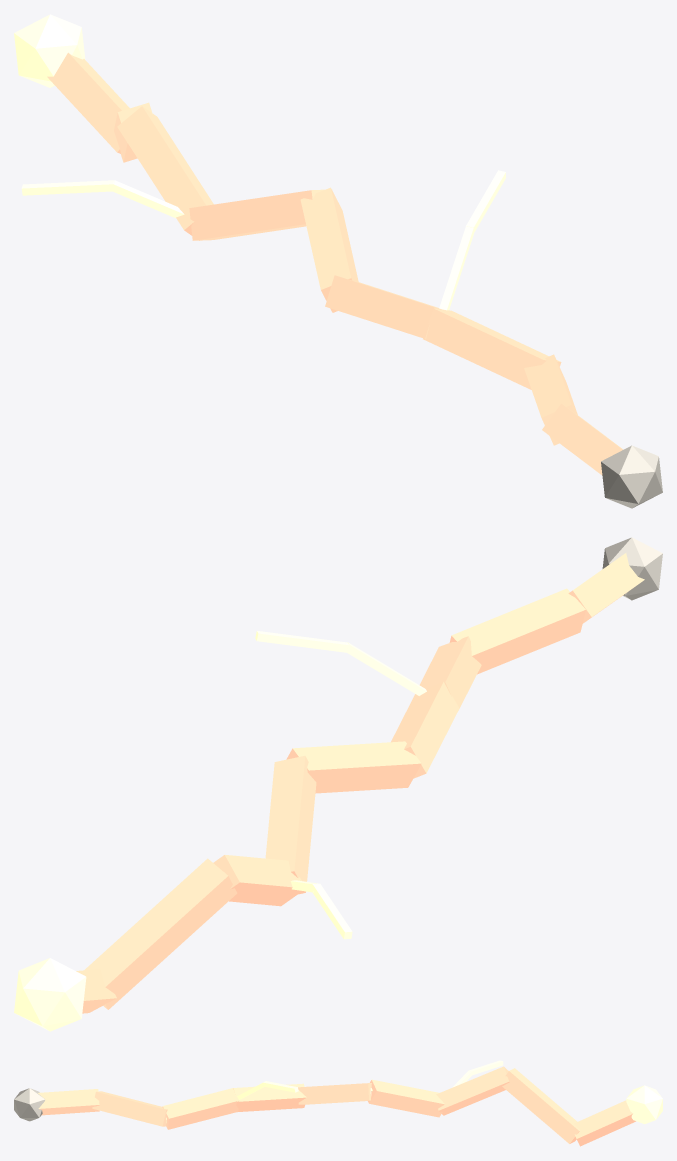
The model's file is FX_AegisArc.fbx.
3 views of the same model, one above another, from view 1: azimuth 30°, elevation 25°; view 2: azimuth 150°, elevation 25°; view 3: azimuth 270°, elevation 25° (orthographic). The views are drawn at different scales.
Parts seen in each view (by area): view 1: AArc_Glow, AArc_EndFlare, AArc_StartFlare, AArc_Fork1, AArc_Fork0; view 2: AArc_Glow, AArc_EndFlare, AArc_StartFlare, AArc_Fork0, AArc_Fork1; view 3: AArc_Glow, AArc_EndFlare, AArc_StartFlare, AArc_Fork0, AArc_Fork1.
Boxes of the visible parts, <box> form: AArc_Glow: <box>47,52,623,475</box>; AArc_EndFlare: <box>14,14,85,87</box>; AArc_StartFlare: <box>601,445,662,508</box>; AArc_Fork1: <box>21,180,184,218</box>; AArc_Fork0: <box>439,170,505,310</box>; AArc_Glow: <box>76,553,644,1013</box>; AArc_EndFlare: <box>14,958,86,1031</box>; AArc_StartFlare: <box>602,537,662,600</box>; AArc_Fork0: <box>255,631,426,695</box>; AArc_Fork1: <box>290,880,352,939</box>; AArc_Glow: <box>38,1066,635,1146</box>; AArc_EndFlare: <box>626,1085,662,1124</box>; AArc_StartFlare: <box>14,1088,45,1121</box>; AArc_Fork0: <box>237,1081,298,1099</box>; AArc_Fork1: <box>452,1060,503,1087</box>.
Size of the model in its own units: 0.2886 by 0.1519 by 1.06.
